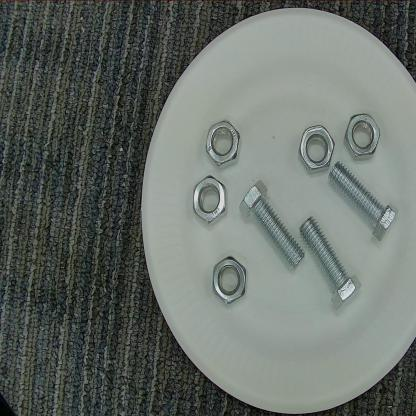FOD: (294, 208, 363, 320), (237, 181, 308, 276), (327, 160, 401, 245), (188, 172, 232, 230), (209, 252, 250, 310), (294, 122, 335, 178), (202, 117, 243, 172), (343, 110, 382, 164)
